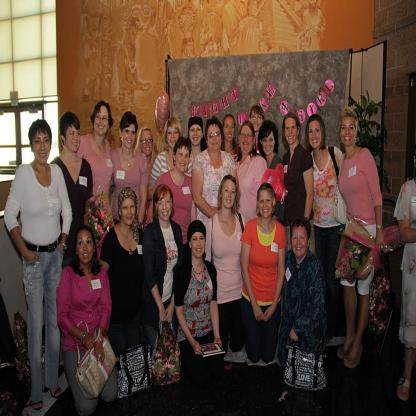face: (33, 130, 51, 164), (77, 231, 94, 264), (292, 228, 308, 258), (66, 124, 81, 153), (95, 107, 109, 136), (158, 194, 173, 221), (342, 118, 356, 146), (223, 181, 237, 209), (260, 191, 274, 218), (176, 147, 190, 173), (208, 125, 222, 151), (241, 127, 255, 153), (122, 200, 136, 226), (309, 122, 322, 149), (192, 233, 206, 258), (123, 125, 137, 149), (286, 119, 298, 144), (141, 131, 153, 155), (263, 132, 275, 156), (224, 118, 235, 142), (168, 128, 180, 148), (190, 125, 202, 145), (252, 112, 263, 131)
